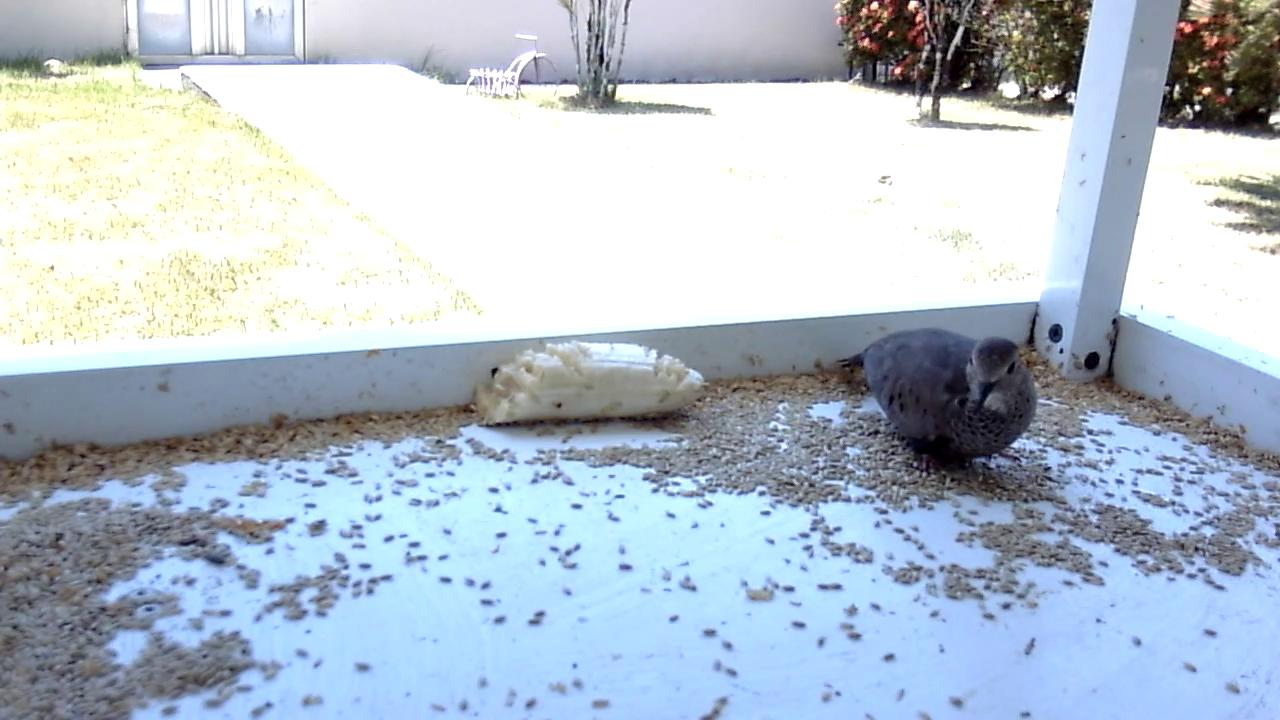rolinha: (833, 325, 1040, 478)
